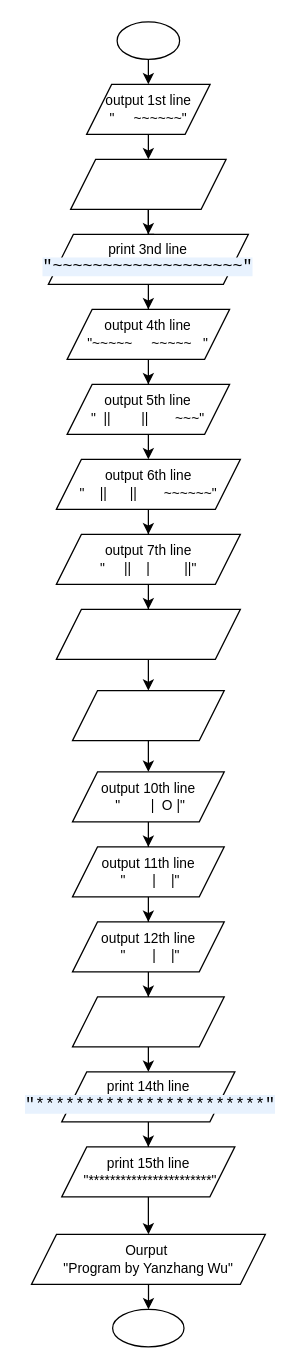
Image size: 296x1369. Some labels were removed from this diagram. Each missing label, with the centre of its shape:
End: (x=147, y=1327)
output 13th line " || ||": (x=147, y=1021)
output 2nd line " ~~~~~~~~~~ ": (x=147, y=183)
output 8th line " | ||=======||": (x=147, y=633)
output 9th line " | |": (x=147, y=715)
start: (x=148, y=40)
